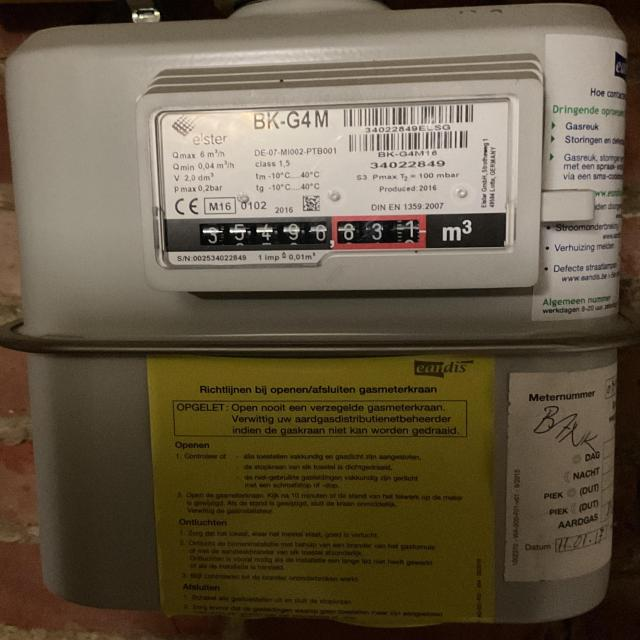gaz_meter: (157, 107, 515, 250)
indication: (178, 214, 428, 252)
